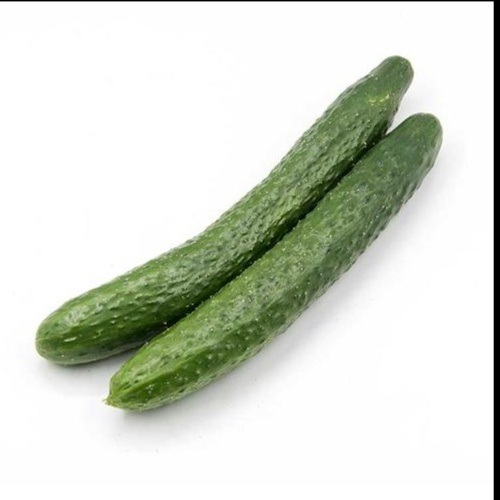cucumber: (41, 63, 415, 366), (111, 107, 437, 412)
